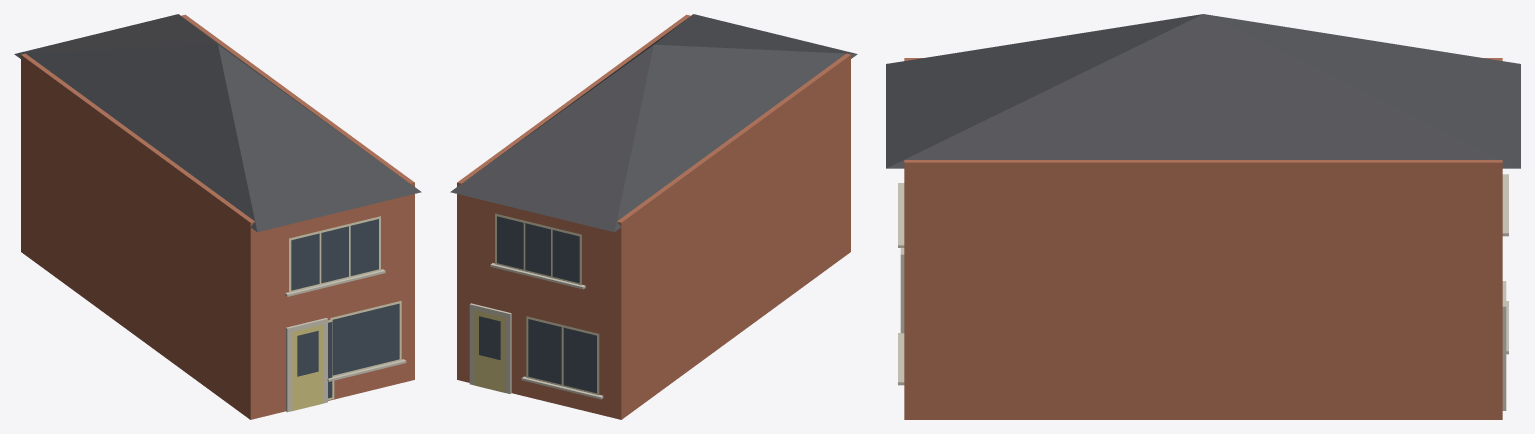
The model's file is zo-vw-row__cream-door__2__hip__long__solid.glb.
The picture shows the model from 3 angles, left to right: view 1: azimuth 30°, elevation 25°; view 2: azimuth 150°, elevation 25°; view 3: azimuth 270°, elevation 25°; orthographic projection. The views are drawn at different scales.
Visible parts, largest first — view 1: zo-vw-row__cream-door__2__hip__long__solid; view 2: zo-vw-row__cream-door__2__hip__long__solid; view 3: zo-vw-row__cream-door__2__hip__long__solid.
Part boxes in pixels (bbox=[...]): zo-vw-row__cream-door__2__hip__long__solid: bbox=[14, 14, 421, 419]; zo-vw-row__cream-door__2__hip__long__solid: bbox=[450, 14, 857, 419]; zo-vw-row__cream-door__2__hip__long__solid: bbox=[886, 14, 1520, 419].
Bounding box in the file's own units: 4.78 × 7.53 × 12.25.
